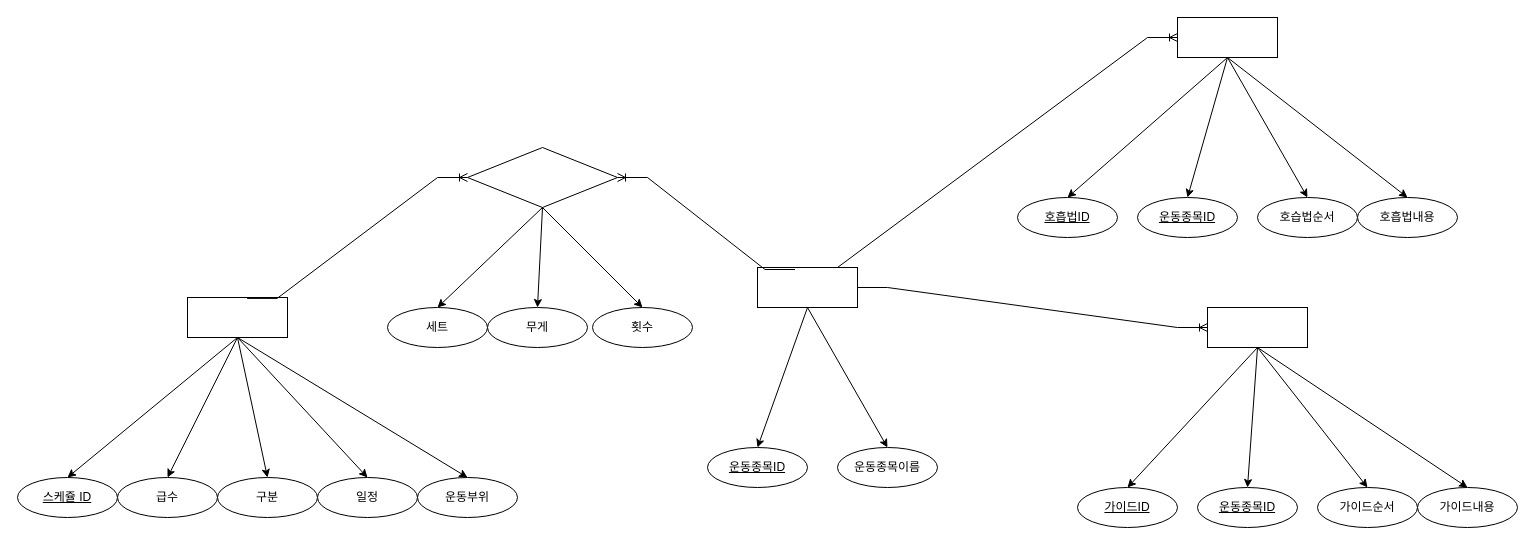
Some shapes in this 1535 by 545 pixel diagram are drawn without their labels. The centre of each missing label's shape, as x and y in pixels:
"스케쥴별 운동종목" belongs at point 542,177.
"운동가이드" belongs at point 1257,327.
"운동스캐줄" belongs at point 237,317.
"운동종목" belongs at point 807,287.
"호습법" belongs at point 1227,37.
